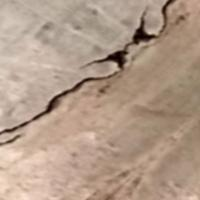crack: (1, 0, 189, 137)
